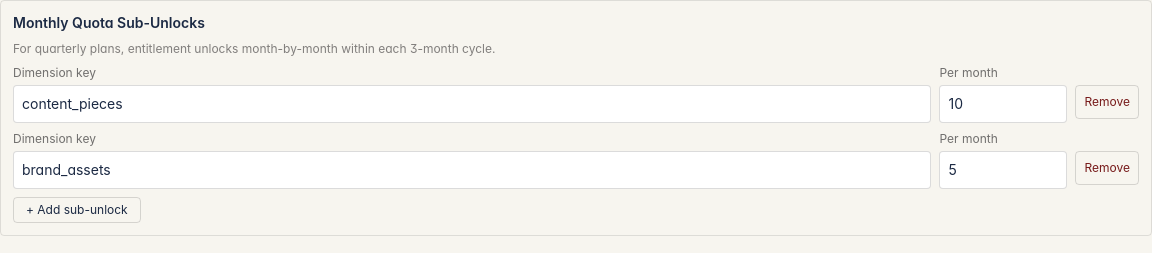
HUB-1766 (S7): QuotaSubUnlockEditor › removes a row on remove button click
What coordinates should you click on to do the following:
click the button with test id "quota-sub-unlock-remove-0"
I would click on:
 (1107, 102)
Its box is top-left (1076, 85), bottom-right (1139, 119).
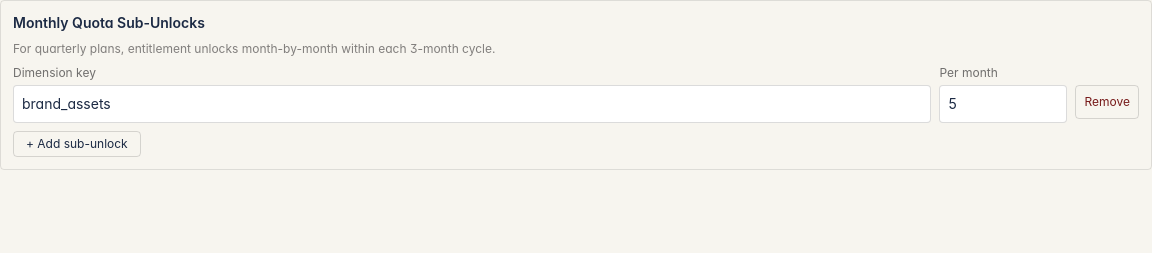
Result: the element with test id "quota-sub-unlock-row-1" is gone
